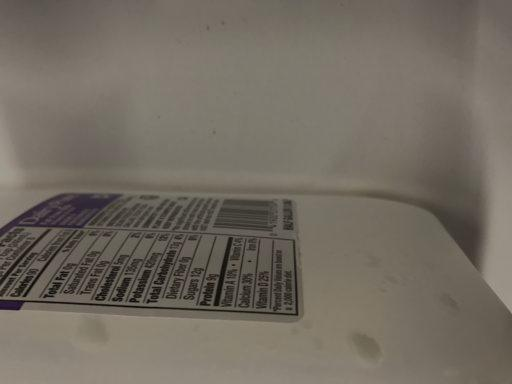paper: (0, 189, 511, 345)
